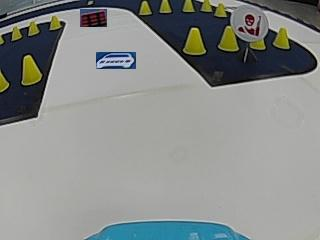evil: (230, 5, 267, 42)
